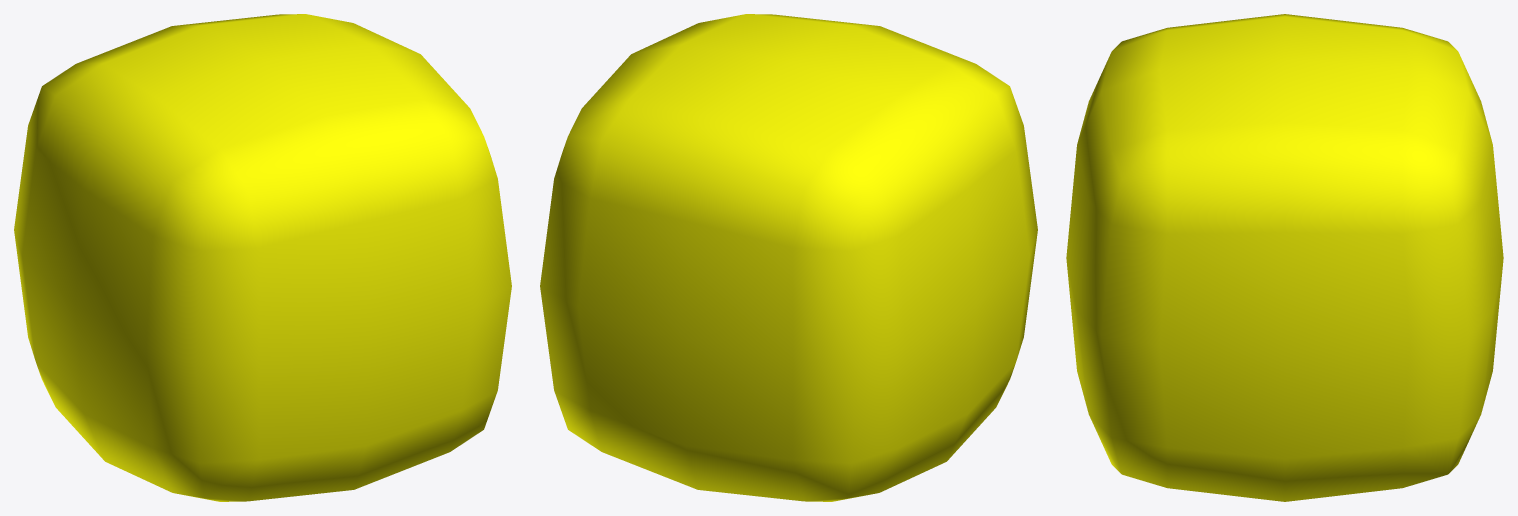
Rendered from snowball.glb.
3 views of the same model, side by side, from view 1: azimuth 30°, elevation 25°; view 2: azimuth 150°, elevation 25°; view 3: azimuth 270°, elevation 25° (orthographic).
Parts seen in each view (by area): view 1: snowball_LOD0; view 2: snowball_LOD0; view 3: snowball_LOD0.
Boxes of the visible parts, <box> form: snowball_LOD0: <box>14,14,511,501</box>; snowball_LOD0: <box>540,14,1037,501</box>; snowball_LOD0: <box>1066,14,1503,501</box>.
Size of what is drawn, in the model's own units: 0.3984 by 0.3984 by 0.3984.
1 material, 1 textured.
